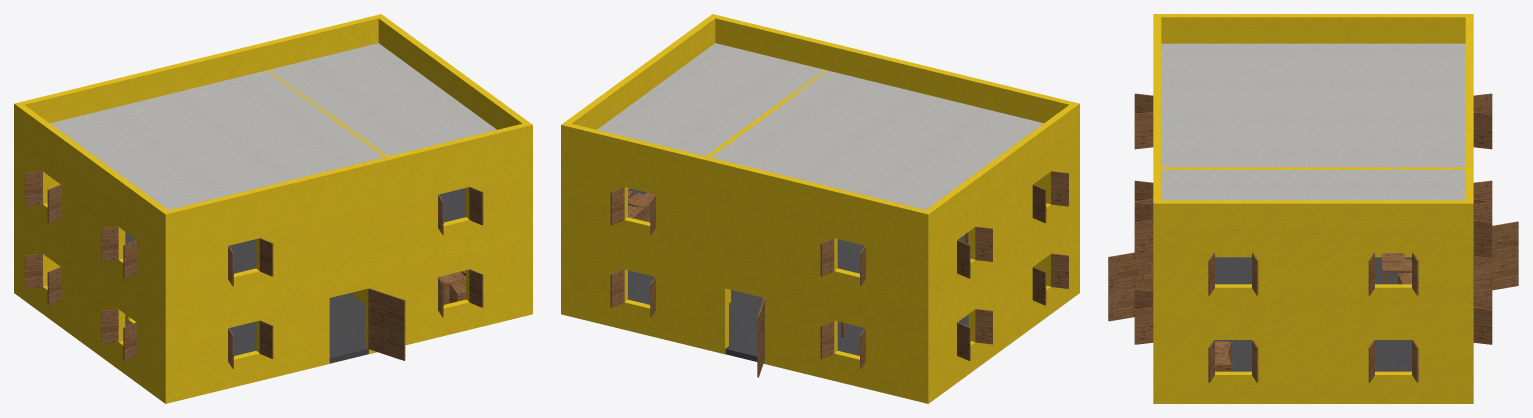
The model's file is school_yellow.glb.
The picture shows the model from 3 angles, left to right: view 1: azimuth 30°, elevation 25°; view 2: azimuth 150°, elevation 25°; view 3: azimuth 270°, elevation 25°; orthographic projection. The views are drawn at different scales.
Visible parts, largest first — view 1: SchoolYellow; view 2: SchoolYellow; view 3: SchoolYellow.
Boxes of the visible parts, bbox=[...] form: SchoolYellow: bbox=[14, 14, 532, 403]; SchoolYellow: bbox=[561, 14, 1079, 403]; SchoolYellow: bbox=[1108, 14, 1518, 403].
Bounding box in the file's own units: 15.17 × 6.9 × 12.8.
Materials: 4 (4 with a texture image).
